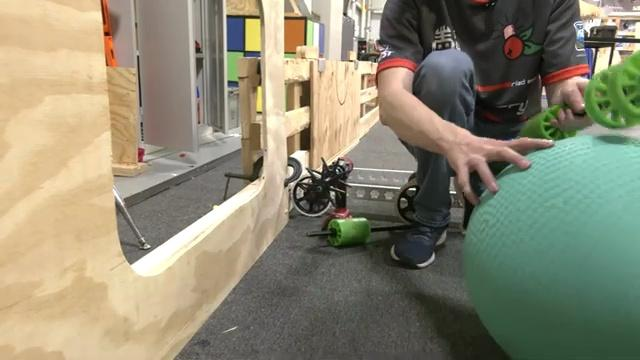ALGAE: (461, 133, 639, 358)
